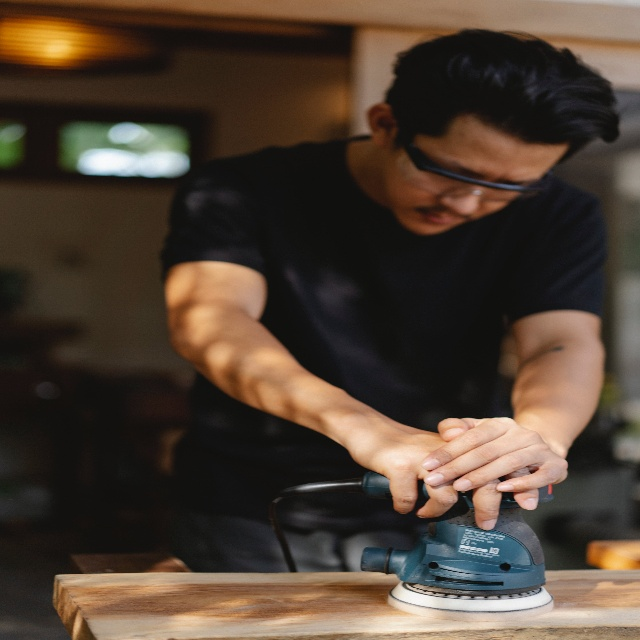Gafas: (393, 122, 555, 206)
Sin_guantes: (348, 413, 539, 531), (420, 416, 568, 493)
